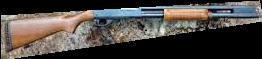gun: (1, 0, 262, 59)
